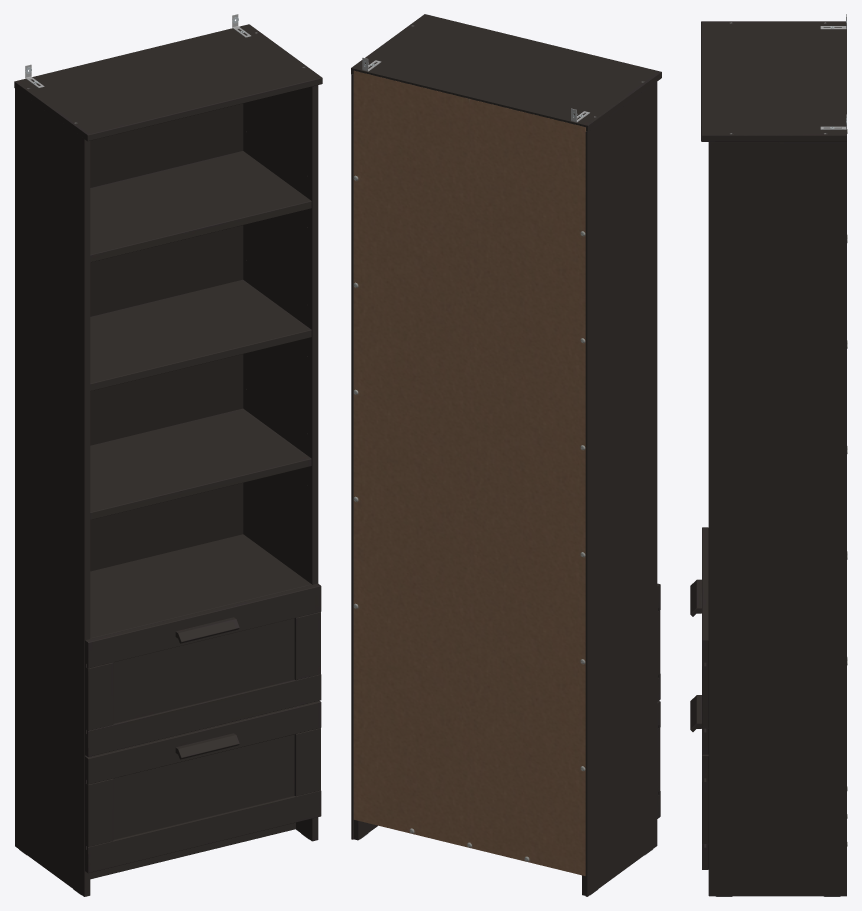
3 renders of one model, left to right at view 1: azimuth 30°, elevation 25°; view 2: azimuth 150°, elevation 25°; view 3: azimuth 270°, elevation 25°, orthographic.
Parts seen in each view (by area): view 1: GLTF; view 2: GLTF; view 3: GLTF.
Part boxes in pixels (bbox=[...]): GLTF: bbox=[14, 14, 322, 896]; GLTF: bbox=[351, 14, 661, 896]; GLTF: bbox=[690, 14, 847, 896].
Bounding box in the file's own units: 0.6 × 1.9 × 0.35.
1 material, 1 textured.
